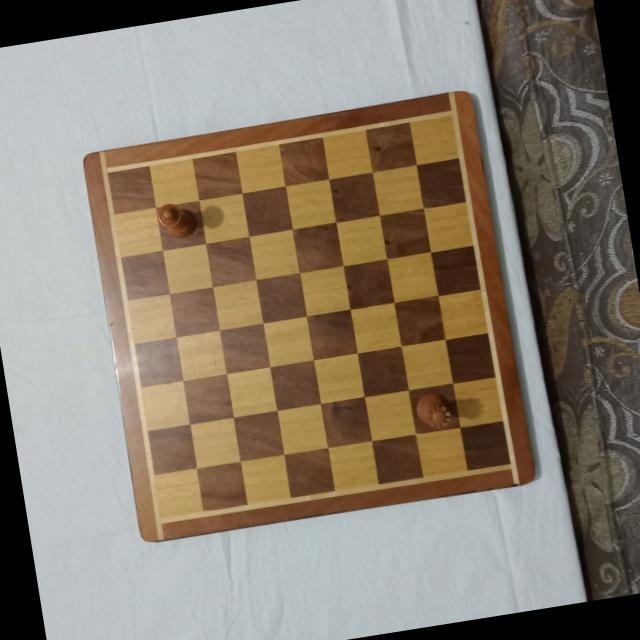white-king: (155, 199, 200, 241)
white-queen: (411, 387, 456, 432)
